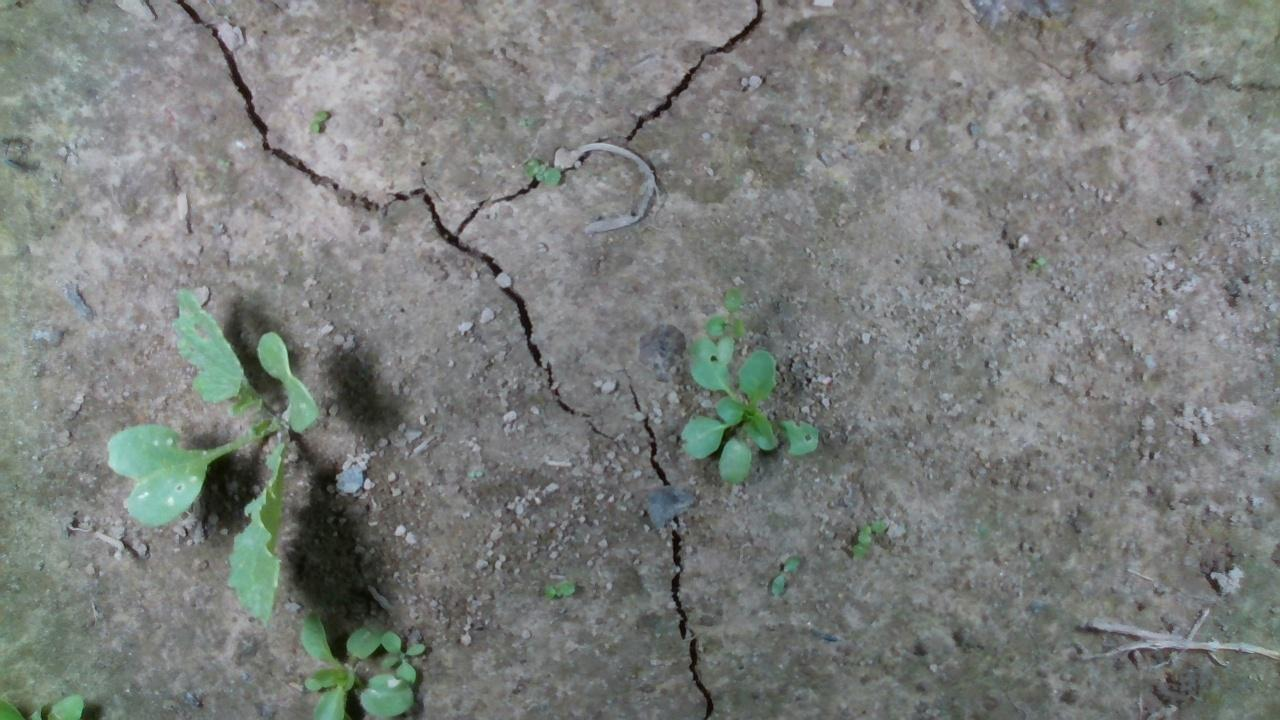weed: (769, 553, 801, 598), (521, 155, 562, 186), (537, 577, 575, 601), (305, 106, 330, 135)
